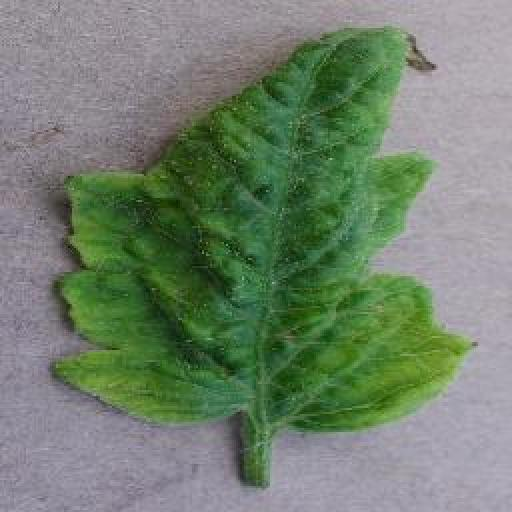disease_tomato: (46, 22, 482, 436)
